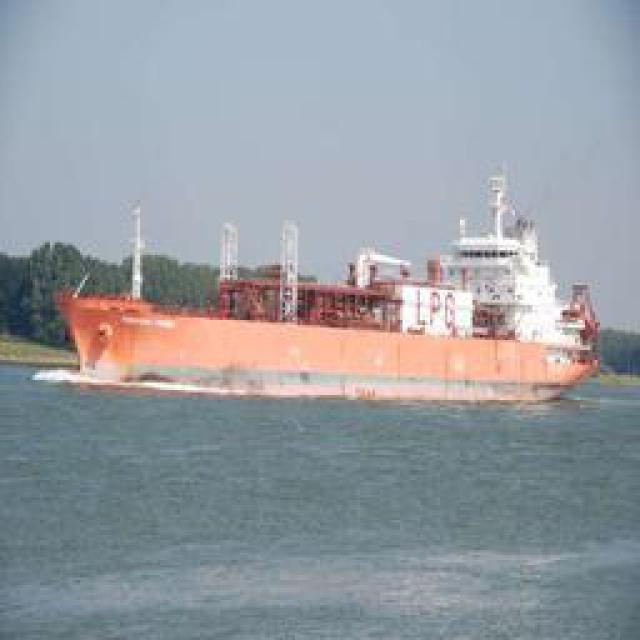Ship: (55, 174, 600, 409)
